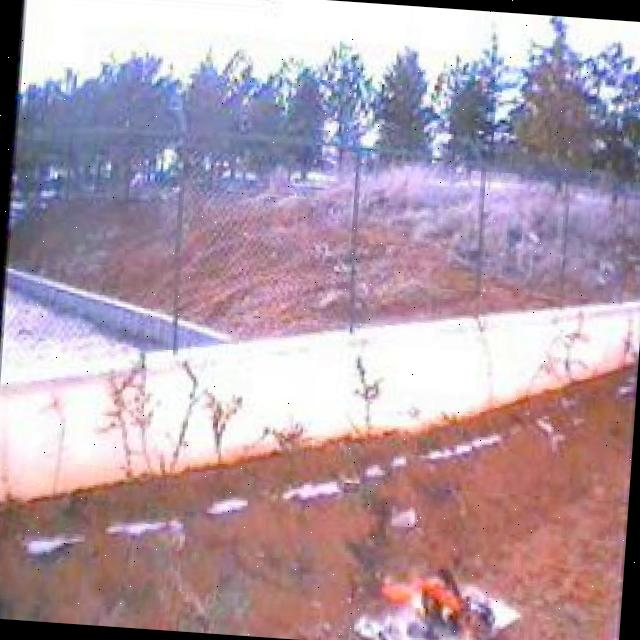fire: (376, 564, 500, 640)
